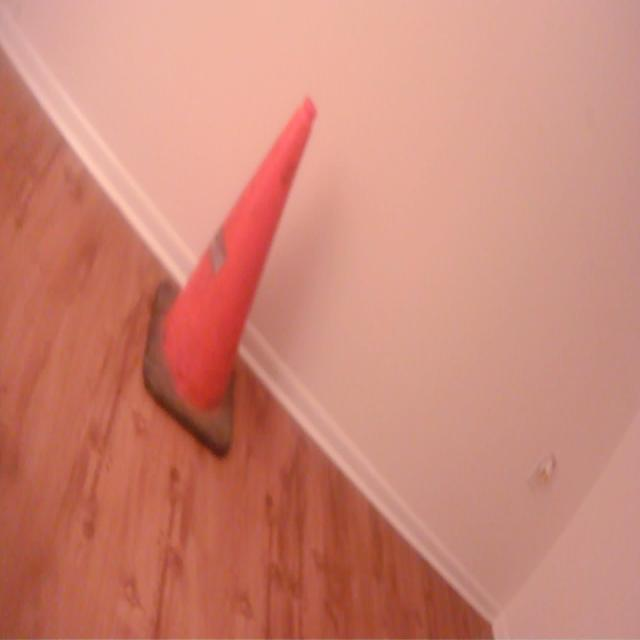traffic cone: (140, 91, 321, 463)
